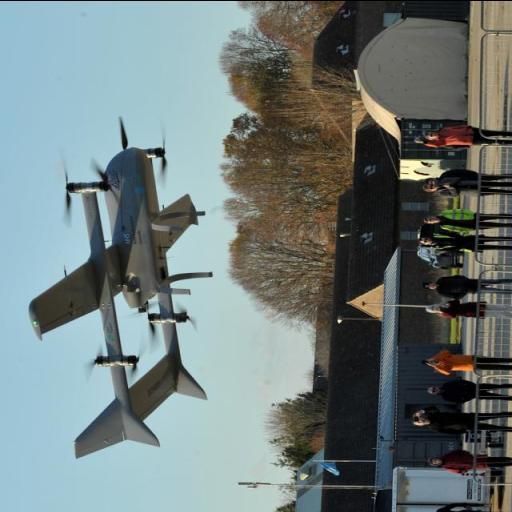uav: (26, 115, 236, 461)
